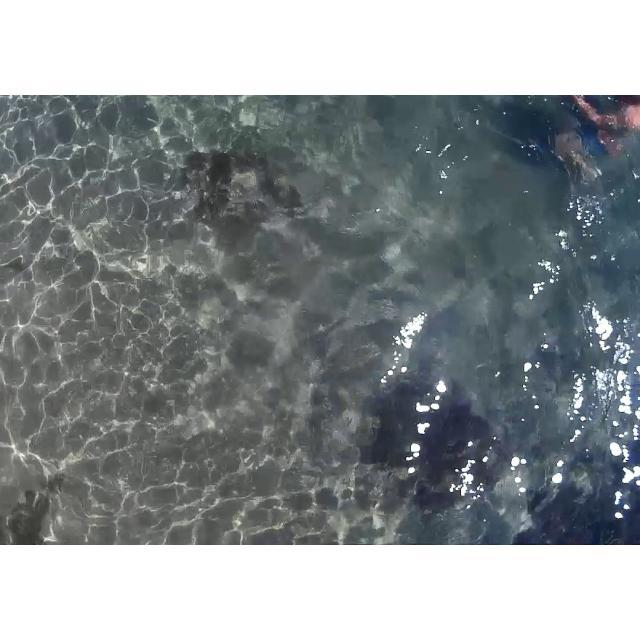human: (552, 95, 637, 170)
